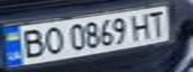0: (63, 20, 87, 52)
6: (97, 16, 118, 47)
8: (81, 18, 103, 50)
9: (109, 15, 133, 44)
B: (12, 26, 48, 60)
H: (127, 11, 157, 40)
O: (36, 25, 66, 56)
T: (142, 8, 172, 38)
